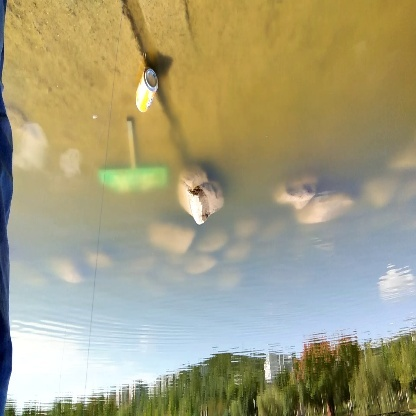bottle: (127, 63, 161, 116)
